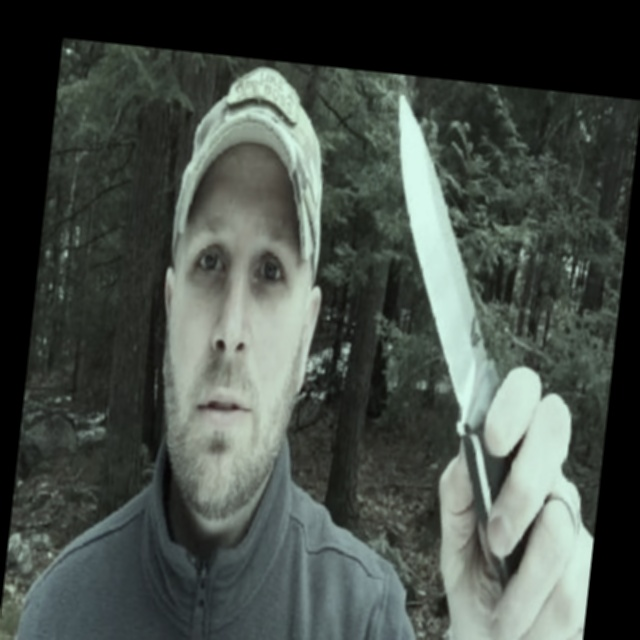Sharp-Object: (341, 97, 609, 640)
